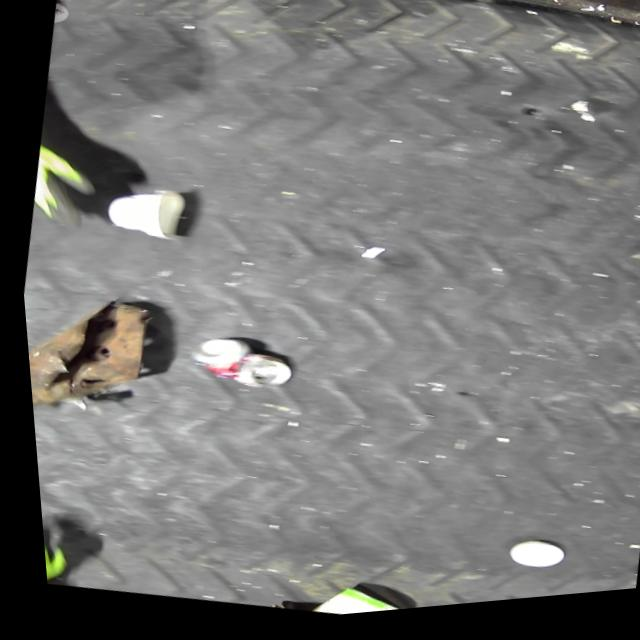can: (175, 330, 290, 403), (287, 579, 398, 623)
